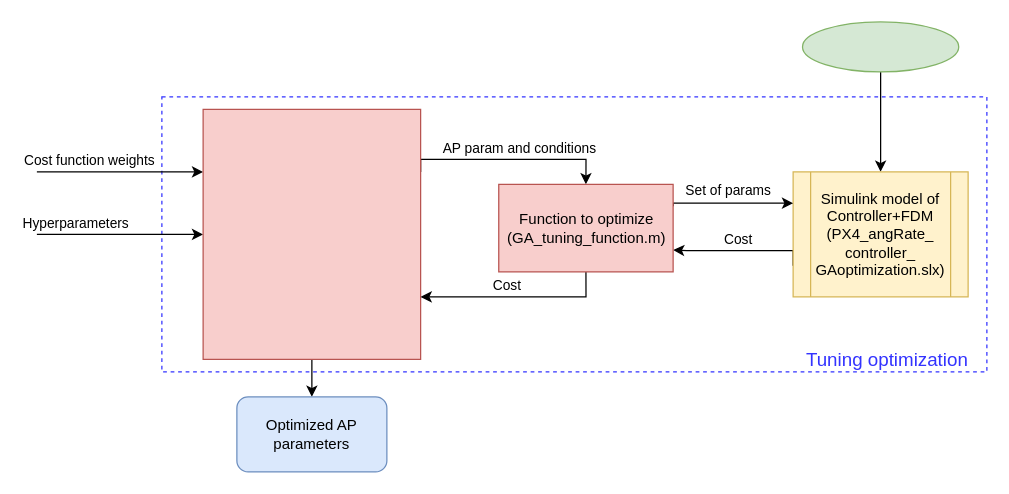
Some shapes in this 1009 by 494 pixel diagram are drawn without their labels. The shapes that lost their labels are listed below. From the top down, each one's centre as x and y in pixels, then its label:
(880,46): SID TF model
(311,233): Genetic Algorithm optimization of AP parameters (Main_OPT.m)
